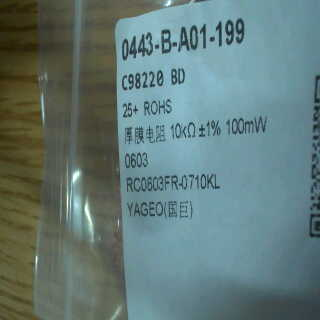10kR: (169, 115, 199, 146)
